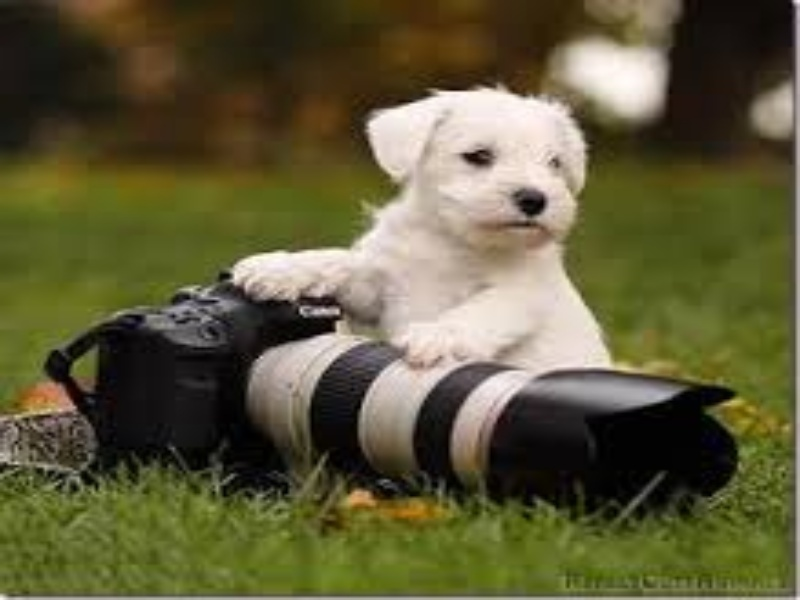dog: (264, 58, 650, 361)
